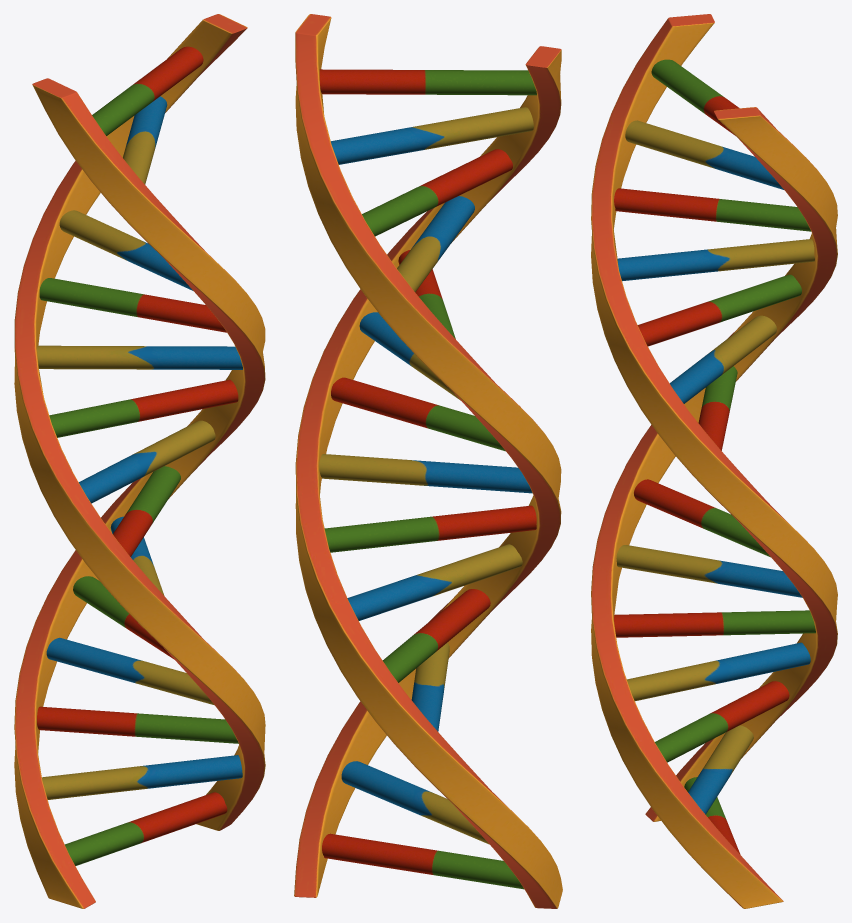
Rendered from helix.fbx.
3 renders of one model, left to right at view 1: azimuth 30°, elevation 25°; view 2: azimuth 150°, elevation 25°; view 3: azimuth 270°, elevation 25°, orthographic. The views are drawn at different scales.
Parts seen in each view (by area): view 1: root; view 2: root; view 3: root.
Part boxes in pixels (x1,y1,x2,y2): root: (14,14,265,908); root: (294,14,562,908); root: (591,14,837,908).
Size of the model in its own units: 0.2088 by 0.73 by 0.2065.
1 material, 1 textured.
